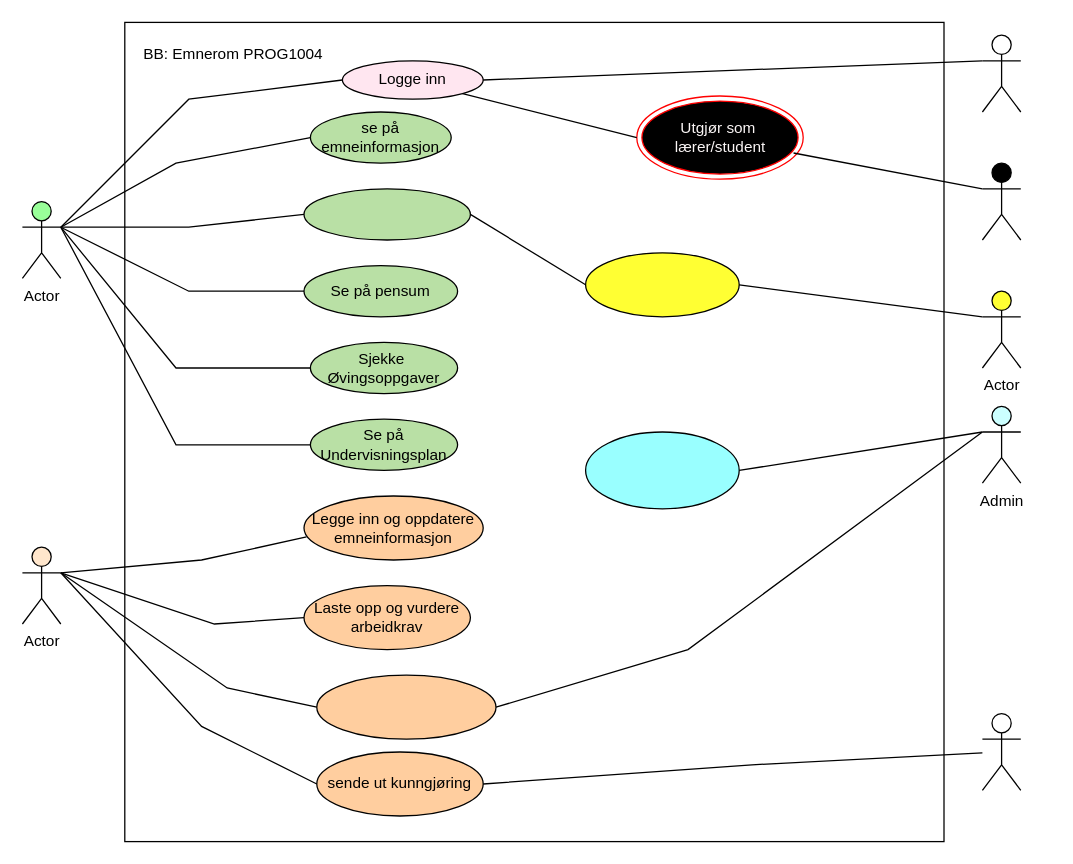
This 1073x864 diagram has some shape labels left out. Each missing label, with the centre of its shape:
"Crook" belongs at pixel 1001 201.
"E-post system" belongs at pixel 1001 751.
"Feide" belongs at pixel 1001 73.
"Melde inn student på emnet" belongs at pixel 406 706.
"Oppgjør Arbeidskrav" belongs at pixel 386 214.
"Registere klasse emne" belongs at pixel 661 470.
"se og komentere studentsarbeid" belongs at pixel 661 284.
